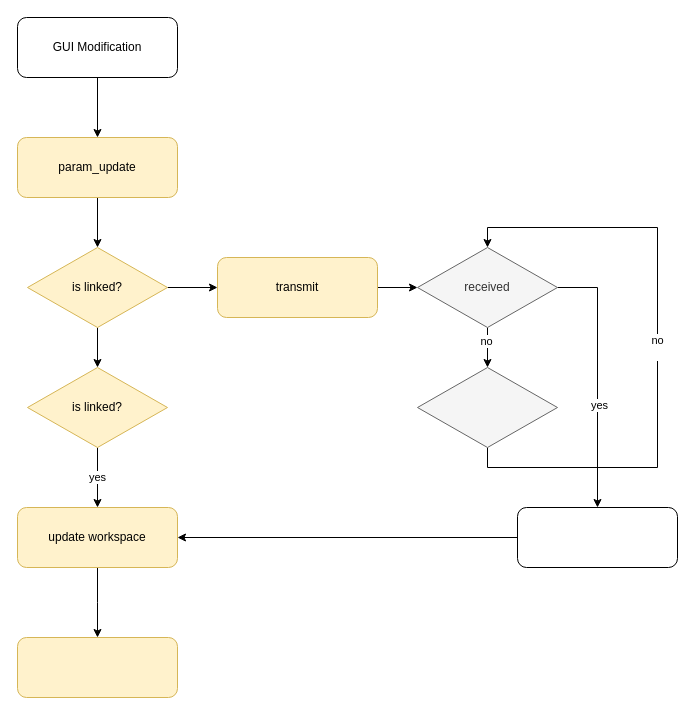
Image size: 695x715. Some labels were removed from this diagram. Here are the shapes that lost their labels. From the top down, the box of each, then its label:
(416, 366, 558, 448): timeout?
(516, 506, 678, 568): decode
(16, 636, 178, 698): done
